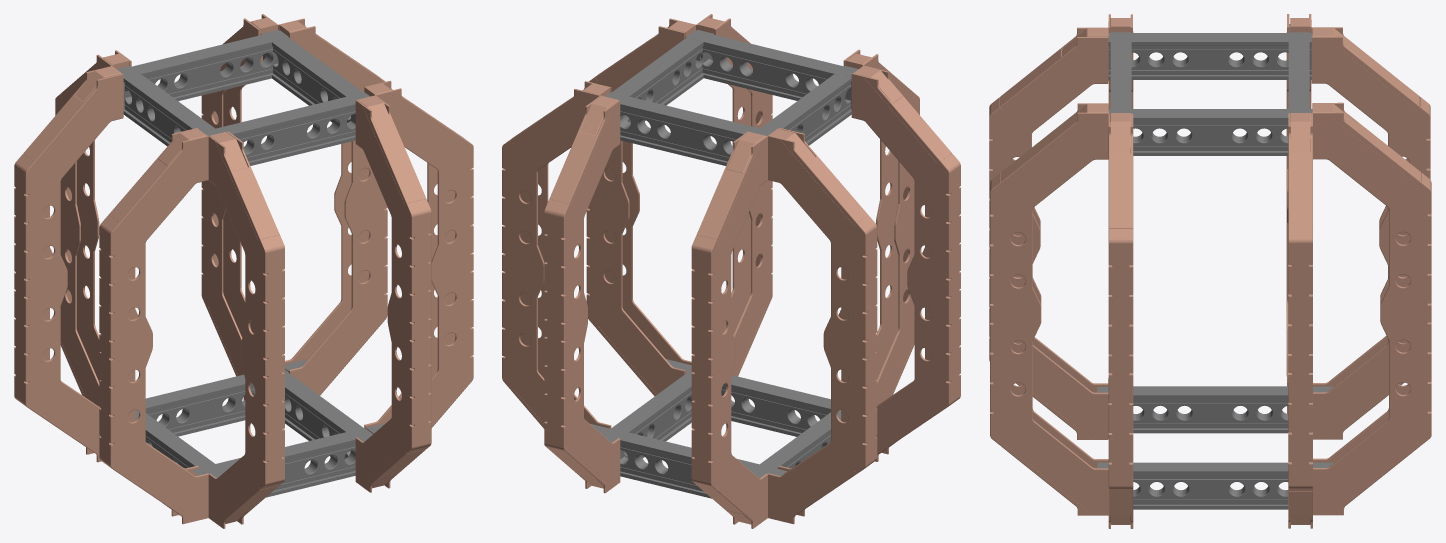
The model's file is FullBlock2.glb.
3 renders of one model, left to right at view 1: azimuth 30°, elevation 25°; view 2: azimuth 150°, elevation 25°; view 3: azimuth 270°, elevation 25°, orthographic. The views are drawn at different scales.
Visible parts, largest first — view 1: Component#797.028, Component#797.029, Component#446.003, Component#797.025, Component#797.027, Component#797.026, Component#797.031, Component#446.001, Component#797.030, Component#797.032, Component#164.008, Component#164.005 (+2 smaller); view 2: Component#797.029, Component#797.028, Component#446.003, Component#797.030, Component#797.032, Component#797.031, Component#797.026, Component#446.001, Component#797.027, Component#797.025, Component#164.006, Component#164.007 (+2 smaller); view 3: Component#797.025, Component#797.032, Component#446.003, Component#446.001, Component#797.027, Component#797.030, Component#797.026, Component#797.031, Component#797.029, Component#164.001, Component#164.004.
Boxes of the visible parts, x1,y1,x2,y2 form: Component#797.028: (99,128,208,524); Component#797.029: (14,66,123,462); Component#446.003: (116,30,369,165); Component#797.025: (355,95,431,492); Component#797.027: (208,131,284,528); Component#797.026: (364,81,473,427); Component#797.031: (278,18,387,395); Component#446.001: (135,359,385,497); Component#797.030: (55,50,131,406); Component#797.032: (201,14,278,400); Component#164.008: (357,95,395,135); Component#164.005: (209,132,247,170); Component#797.029: (768,127,877,524); Component#797.028: (851,65,960,461); Component#446.003: (605,30,858,165); Component#797.030: (691,131,767,528); Component#797.032: (544,96,620,493); Component#797.031: (502,81,611,433); Component#797.026: (586,18,695,396); Component#446.001: (590,359,841,498); Component#797.027: (843,49,919,404); Component#797.025: (696,14,772,376); Component#164.006: (726,132,765,173); Component#164.007: (580,95,617,135); Component#797.025: (990,103,1109,515); Component#797.032: (1312,102,1431,515); Component#446.003: (1108,24,1312,155); Component#446.001: (1097,386,1333,509); Component#797.027: (989,27,1108,439); Component#797.030: (1311,27,1430,439); Component#797.026: (1108,113,1133,528); Component#797.031: (1288,113,1312,528); Component#797.029: (1286,14,1311,413); Component#164.001: (1290,113,1310,153); Component#164.004: (1110,113,1130,153).
Bounding box in the file's own units: 6.04 × 6.07 × 6.04.
